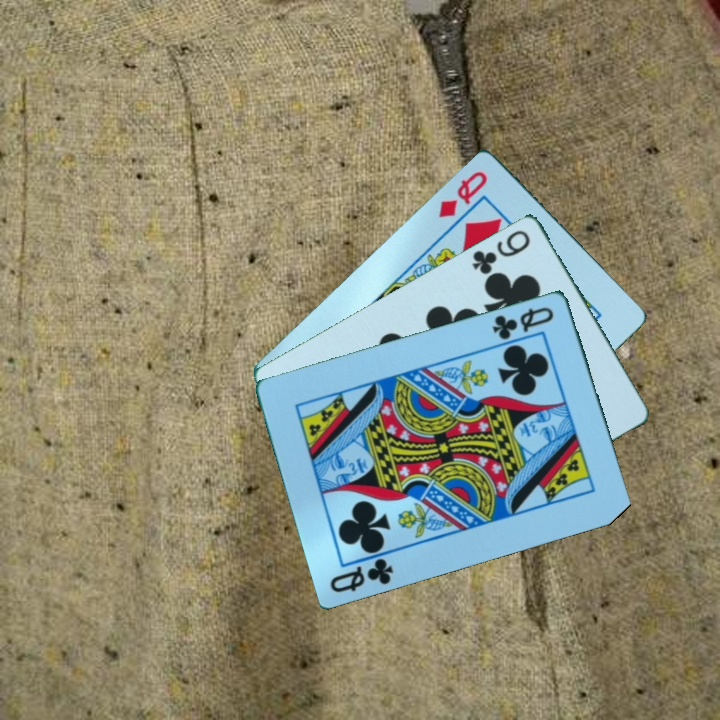9c: (468, 225, 534, 277)
Qc: (326, 554, 397, 595), (489, 302, 557, 343)
Qd: (435, 167, 490, 220)
